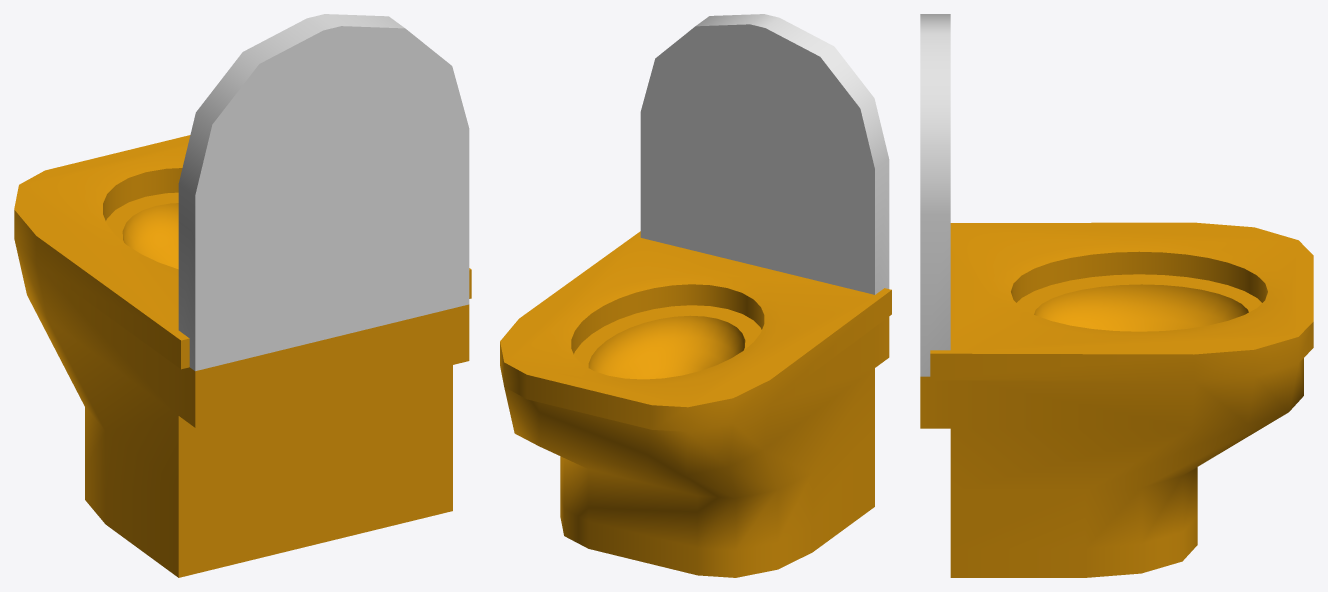
The model's file is klozet.fbx.
The picture shows the model from 3 angles, left to right: view 1: azimuth 30°, elevation 25°; view 2: azimuth 150°, elevation 25°; view 3: azimuth 270°, elevation 25°; orthographic projection. The views are drawn at different scales.
Visible parts, largest first — view 1: Cube.059; view 2: Cube.059; view 3: Cube.059.
Part boxes in pixels (box(x1,y1,x2,y2)): Cube.059: box(14, 14, 471, 577); Cube.059: box(500, 14, 891, 577); Cube.059: box(920, 14, 1313, 577).
Size of the model in its own units: 14.5 by 24.92 by 18.28.
